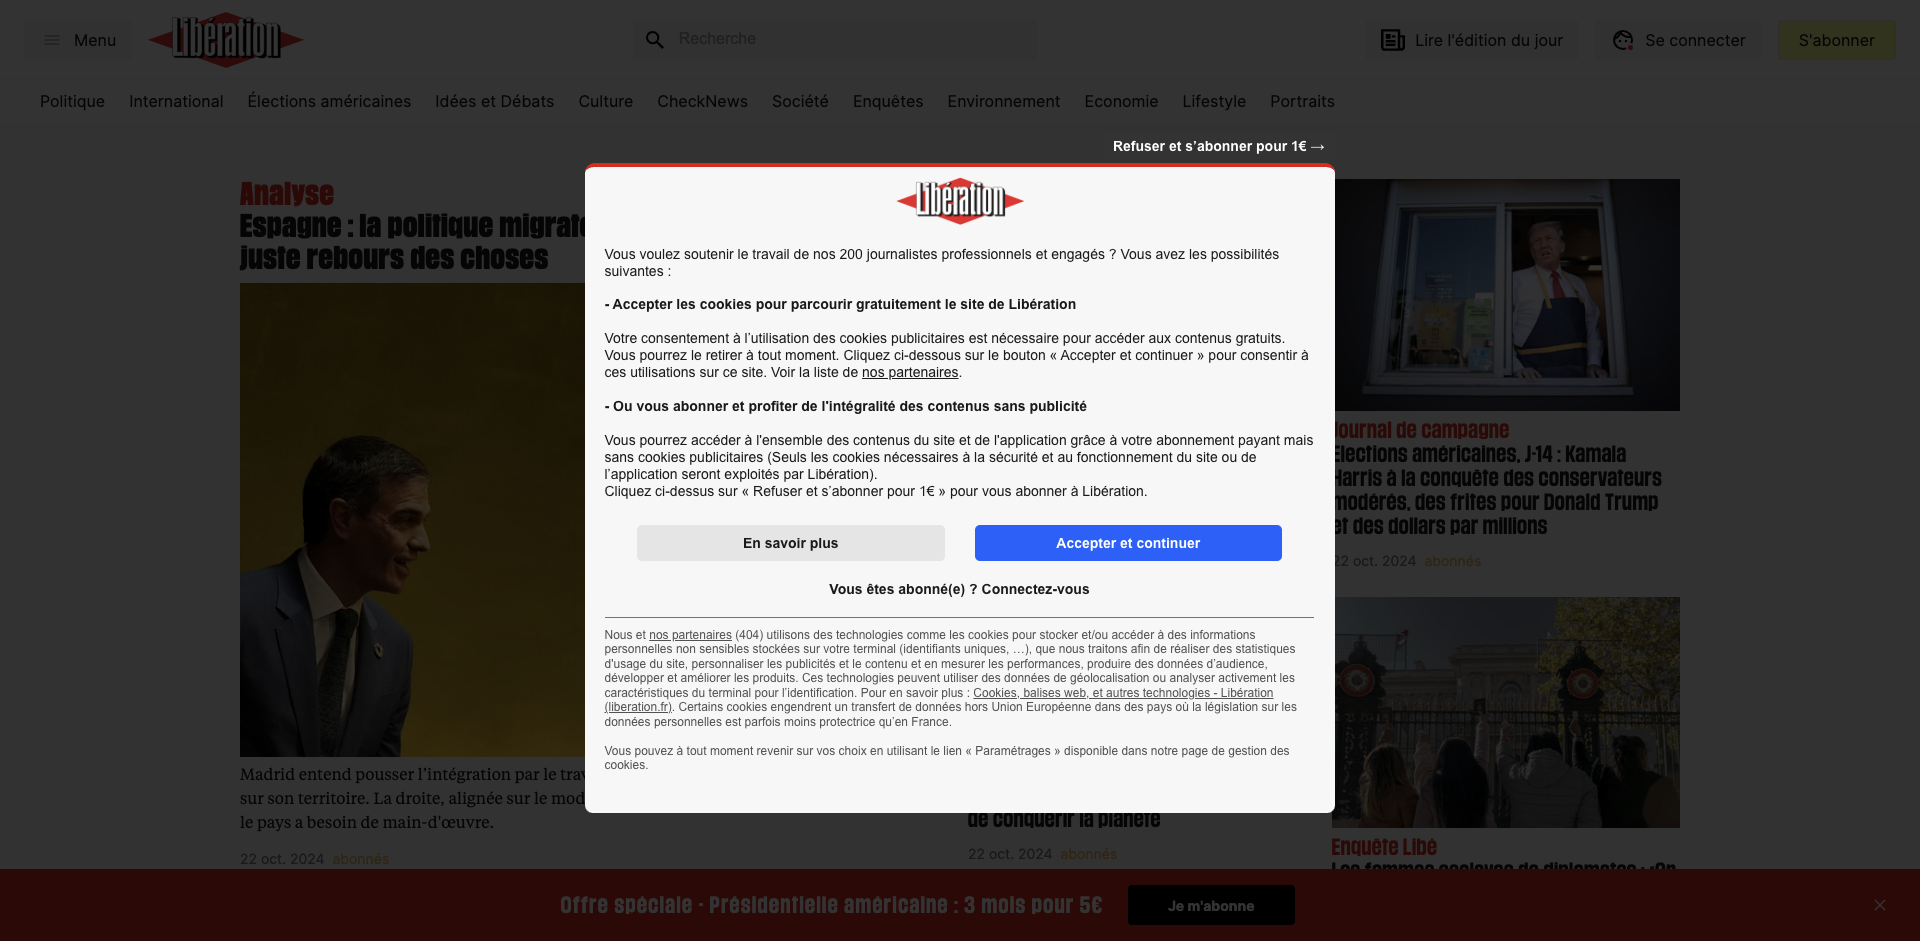button: (1839, 869, 1920, 941), (24, 20, 132, 60)
input: (677, 20, 1037, 60)
link: (240, 283, 951, 765), (1332, 179, 1680, 418), (1332, 597, 1680, 836), (240, 211, 951, 283), (1332, 441, 1680, 545), (1332, 859, 1680, 940), (969, 203, 1316, 283), (969, 629, 1316, 708), (240, 179, 951, 211), (969, 358, 1316, 414), (969, 489, 1316, 545), (969, 783, 1316, 839), (240, 896, 951, 919), (240, 919, 951, 941), (561, 893, 1103, 916), (1365, 20, 1580, 60), (969, 179, 1316, 203), (969, 604, 1316, 629), (969, 758, 1316, 783), (969, 334, 1316, 358), (969, 466, 1316, 489), (1332, 418, 1680, 441), (1332, 836, 1680, 859), (1596, 20, 1762, 60), (1128, 885, 1294, 925), (1778, 20, 1896, 60), (247, 91, 411, 111), (148, 51, 304, 72), (436, 91, 555, 111), (948, 91, 1060, 111), (130, 91, 224, 111), (658, 91, 748, 111), (1085, 91, 1158, 111), (853, 91, 923, 111), (40, 91, 105, 111), (1270, 91, 1335, 111), (1183, 91, 1247, 111), (771, 91, 829, 111), (578, 91, 633, 111)
